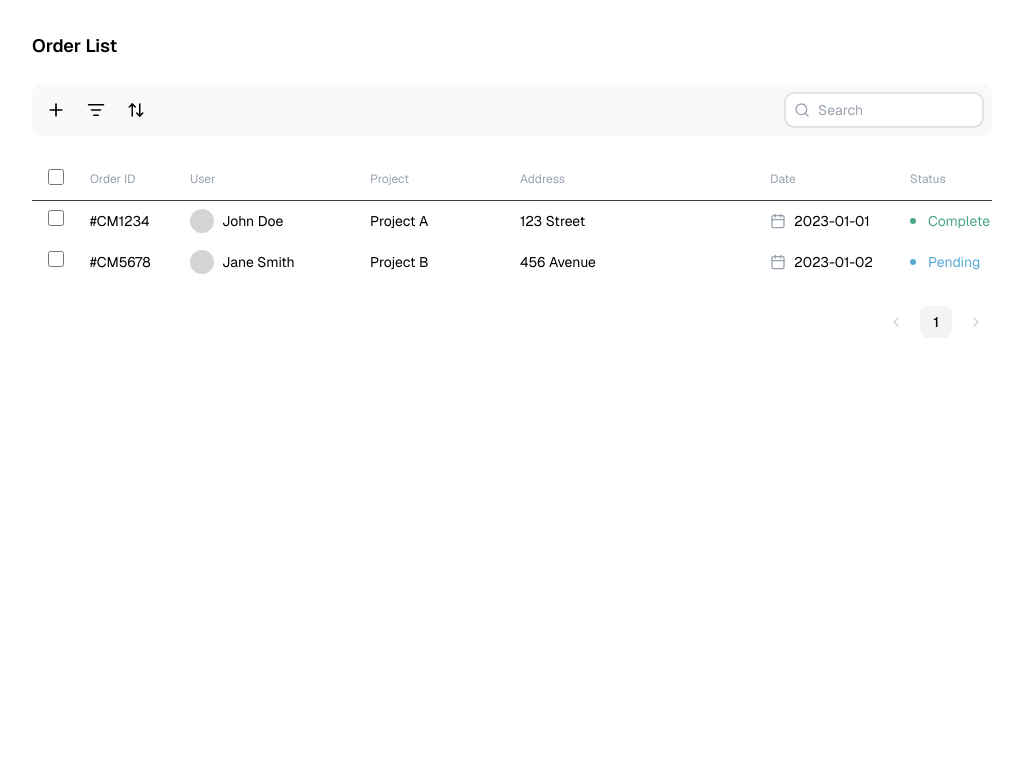
it: OrdersList Page › opens the add order dialog when plus button is clicked
Click the button named "add order" at {"x": 56, "y": 110}, box 40,94 -> 72,126
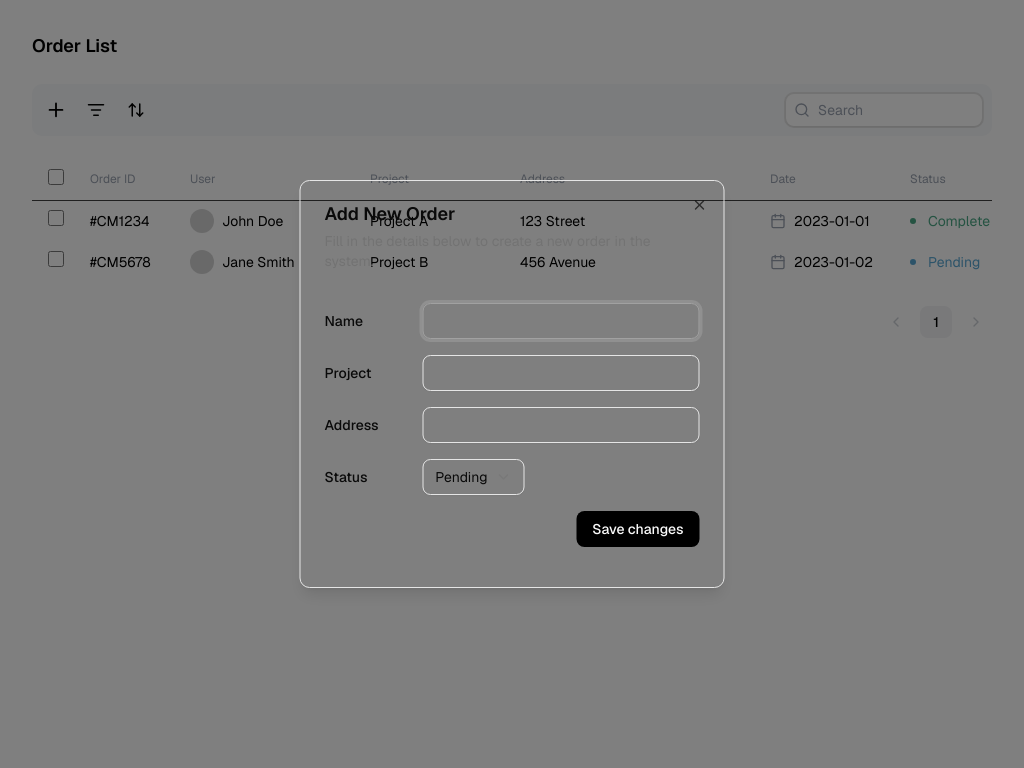
Expected: the heading "Add New Order" is shown, 324,202 -> 455,225
